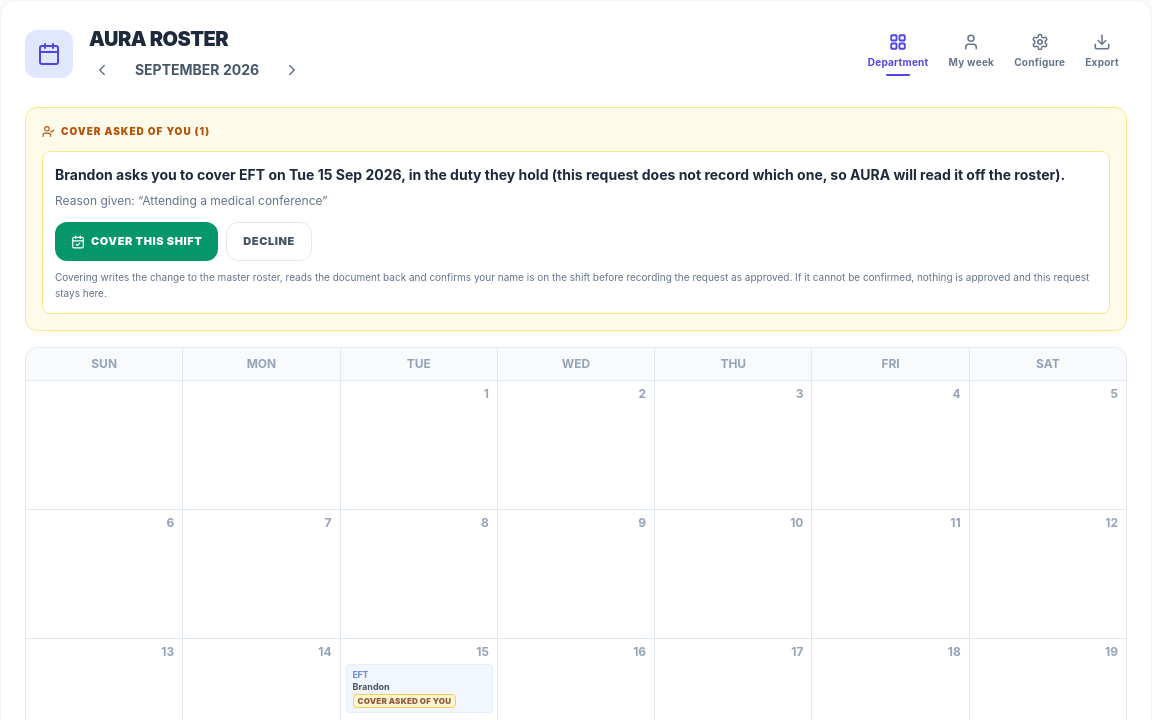
Test: accepting runs the verified sequence and only then reports success › upgrades a pre-6-May legacy shift on write, without inventing a co-lead
Click the button "Cover this shift". click: [137, 242]
box: left=55, top=222, right=218, bottom=261
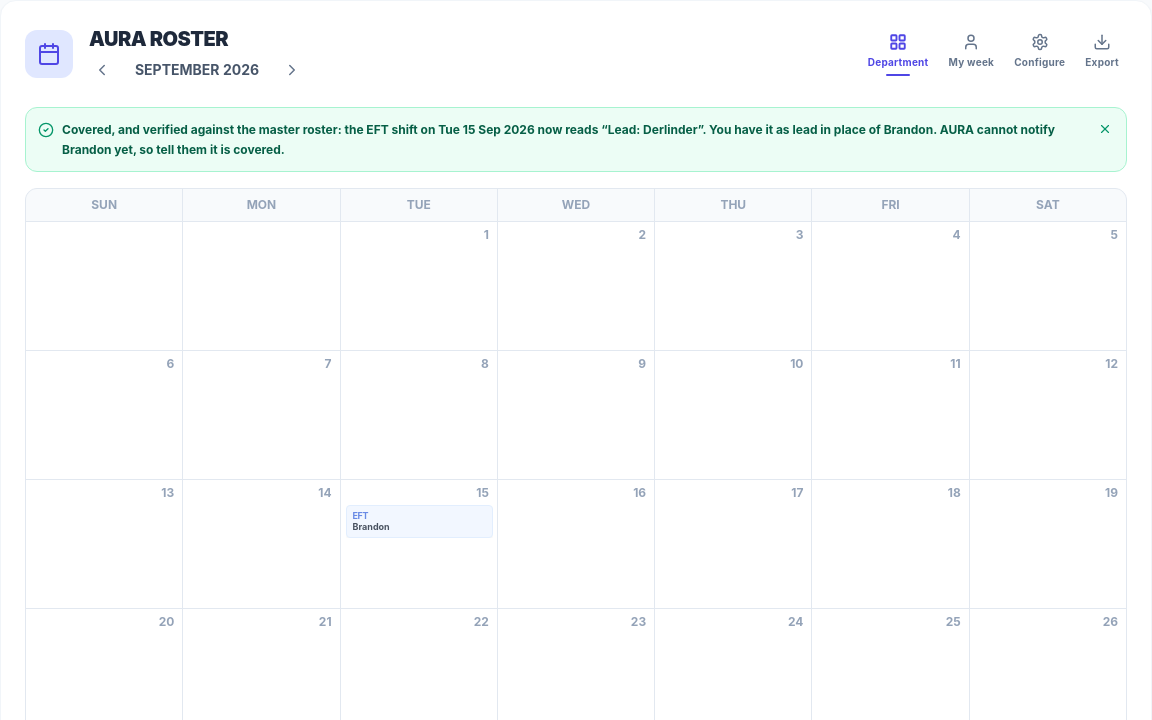
Expected: the text "verified against the master roster" is shown, left=62, top=122, right=1055, bottom=156
